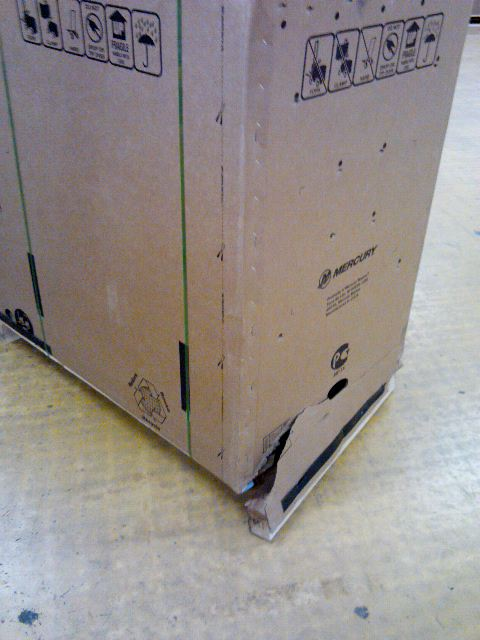package: (0, 0, 475, 536)
